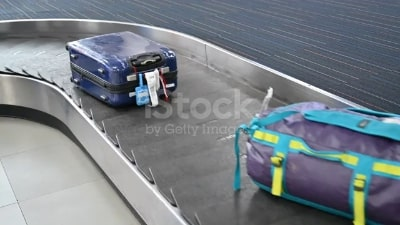baggage: (229, 98, 400, 225), (65, 27, 183, 115)
